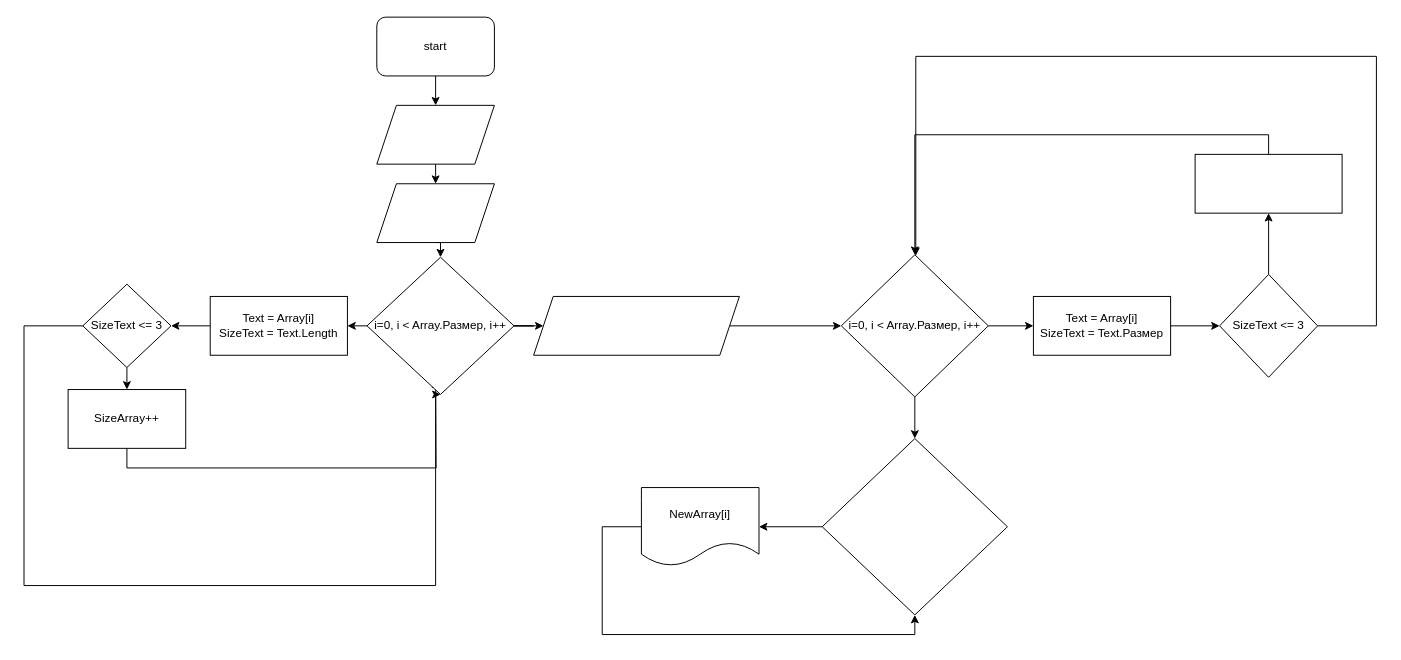
The diagram is 1401 pixels wide and 660 high, and some of its shapes have lost their labels. Each missing label, with the centre of its shape:
Array[] = произвольное: (x=435, y=134)
i=0, i < NewArray.Размер, i++: (x=914, y=526)
NewArray[] = размер[SizeArray] Trigger = 0: (x=636, y=325)
NewArray[Trigger] = Array[i] Trigger++: (x=1268, y=183)
SizeArray = 0 SizeText = 0: (x=435, y=213)
